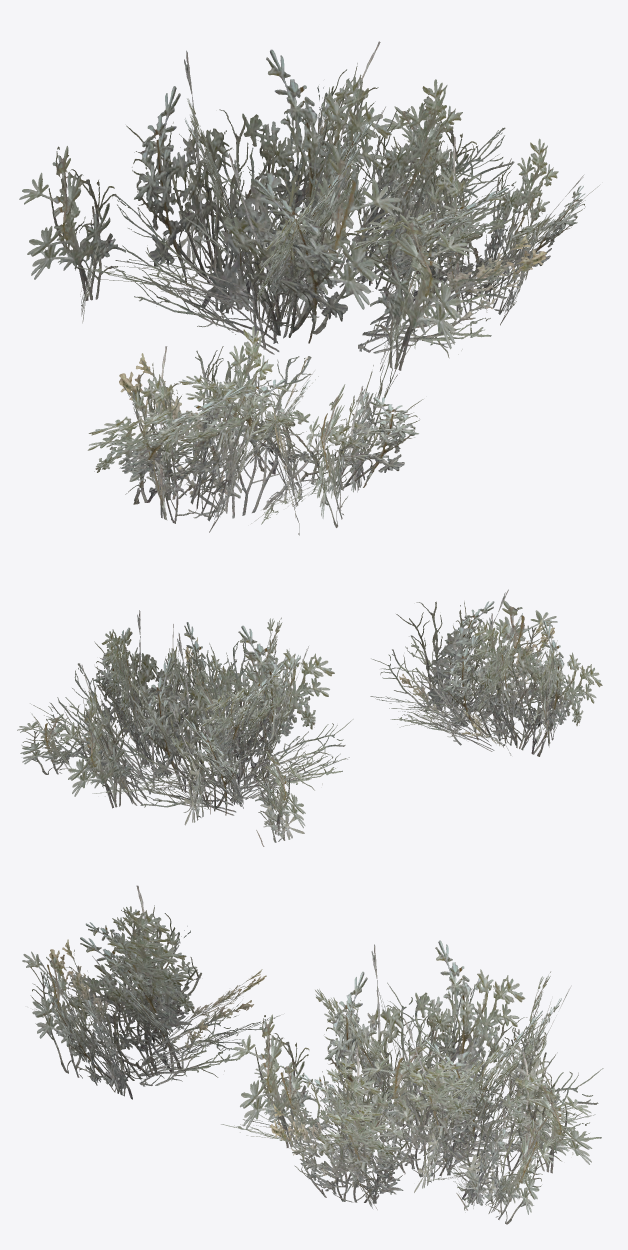
The model's file is proc_scrub_bush01.FBX.
3 renders of one model, top to bottom at view 1: azimuth 30°, elevation 25°; view 2: azimuth 150°, elevation 25°; view 3: azimuth 270°, elevation 25°, orthographic. The views are drawn at different scales.
Parts seen in each view (by area): view 1: proc_scrub_bush01; view 2: proc_scrub_bush01; view 3: proc_scrub_bush01.
Part boxes in pixels (box(x1,y1,x2,y2)): proc_scrub_bush01: box(19, 41, 599, 535); proc_scrub_bush01: box(17, 589, 602, 846); proc_scrub_bush01: box(22, 885, 603, 1224).
Size of the model in its own units: 1.99 by 1.99 by 0.7729.
1 material, 1 textured.
